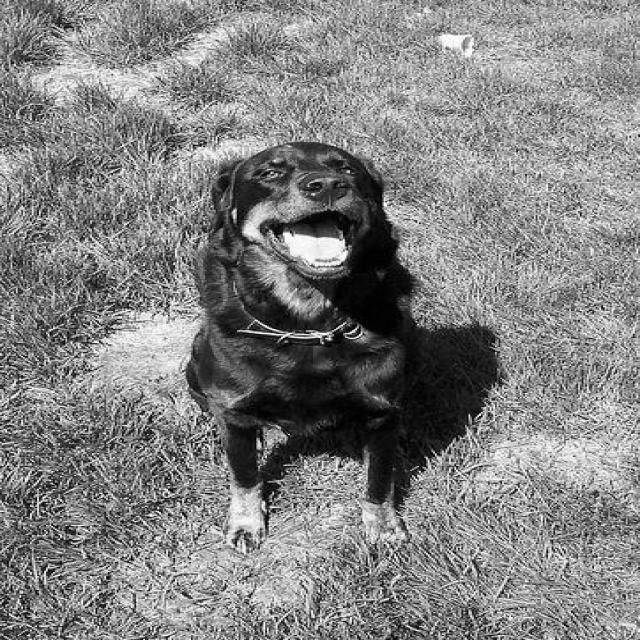sitting: (177, 137, 439, 557)
